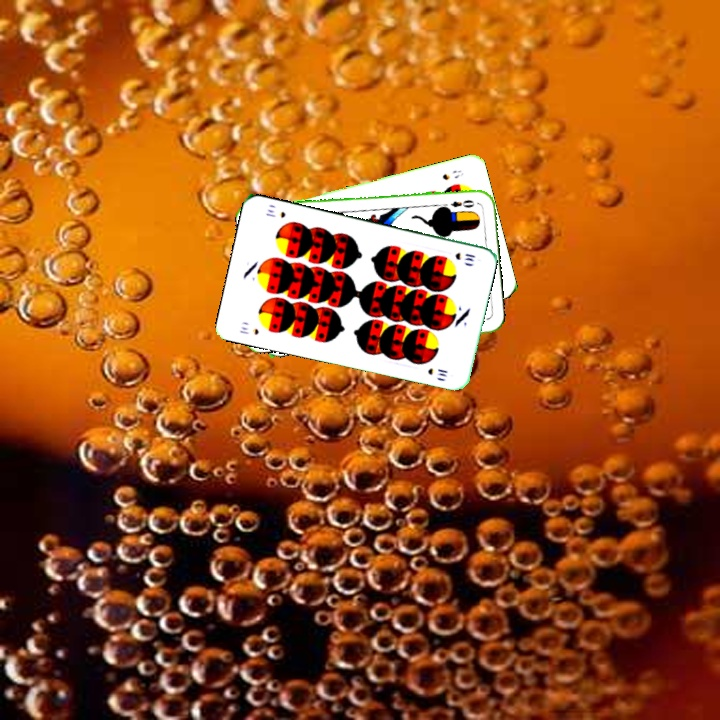EO: (439, 196, 477, 212)
S10: (451, 248, 478, 264), (236, 322, 261, 337)
S8: (438, 166, 466, 183)
